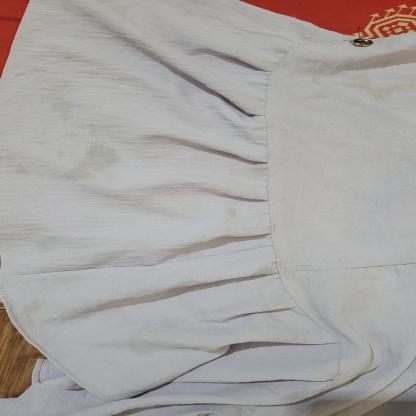spot: (36, 132, 122, 182), (322, 75, 414, 99), (4, 151, 36, 178)
